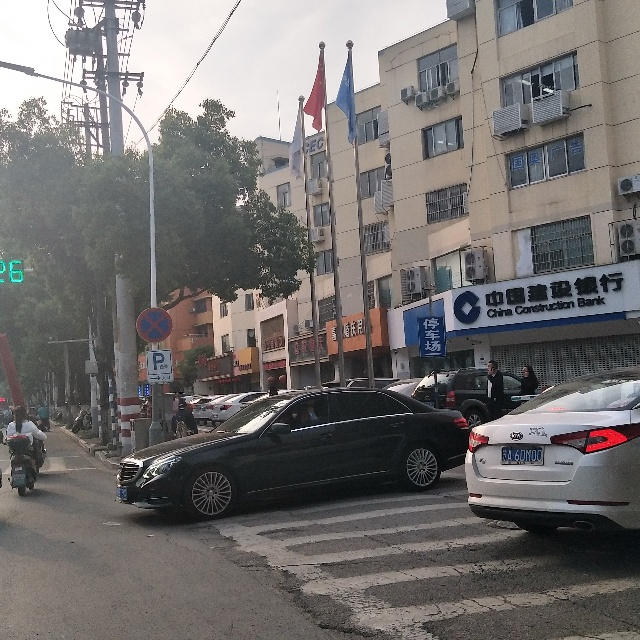stop: (133, 303, 175, 347)
